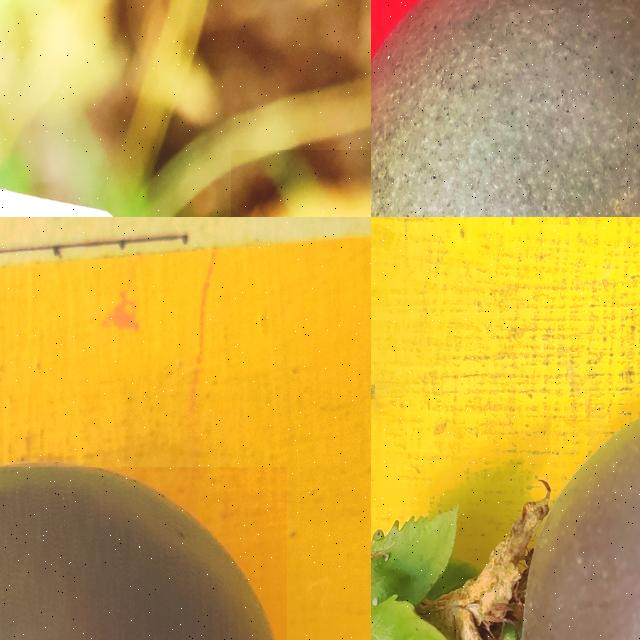Estado-1: (371, 0, 640, 217)
Estado-5: (0, 467, 275, 640)
Estado-6: (371, 421, 640, 640)
